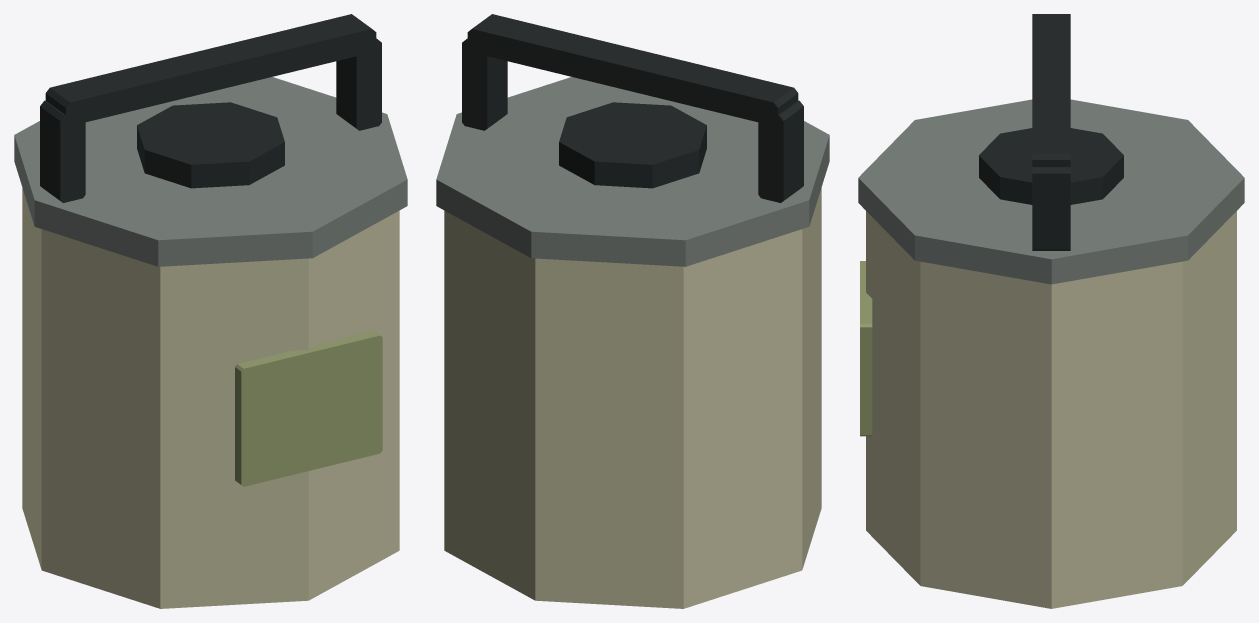
The model's file is Latex.gltf.
3 renders of one model, left to right at view 1: azimuth 30°, elevation 25°; view 2: azimuth 150°, elevation 25°; view 3: azimuth 270°, elevation 25°, orthographic. The views are drawn at different scales.
Parts seen in each view (by area): view 1: Latex; view 2: Latex; view 3: Latex.
Part boxes in pixels (bbox=[...]): Latex: bbox=[14, 14, 407, 608]; Latex: bbox=[436, 14, 829, 608]; Latex: bbox=[858, 14, 1244, 608].
Size of the model in its own units: 0.25 by 0.319 by 0.25.
